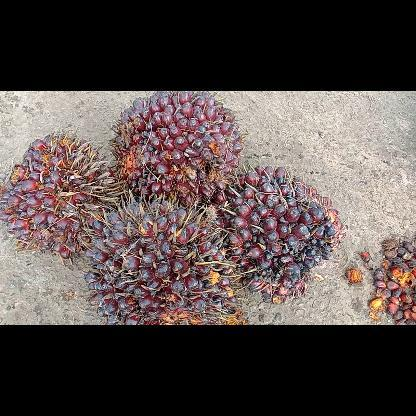Kurang masak: (77, 192, 252, 324), (204, 162, 350, 304), (0, 128, 127, 261)
TBS masak: (108, 92, 246, 208)
